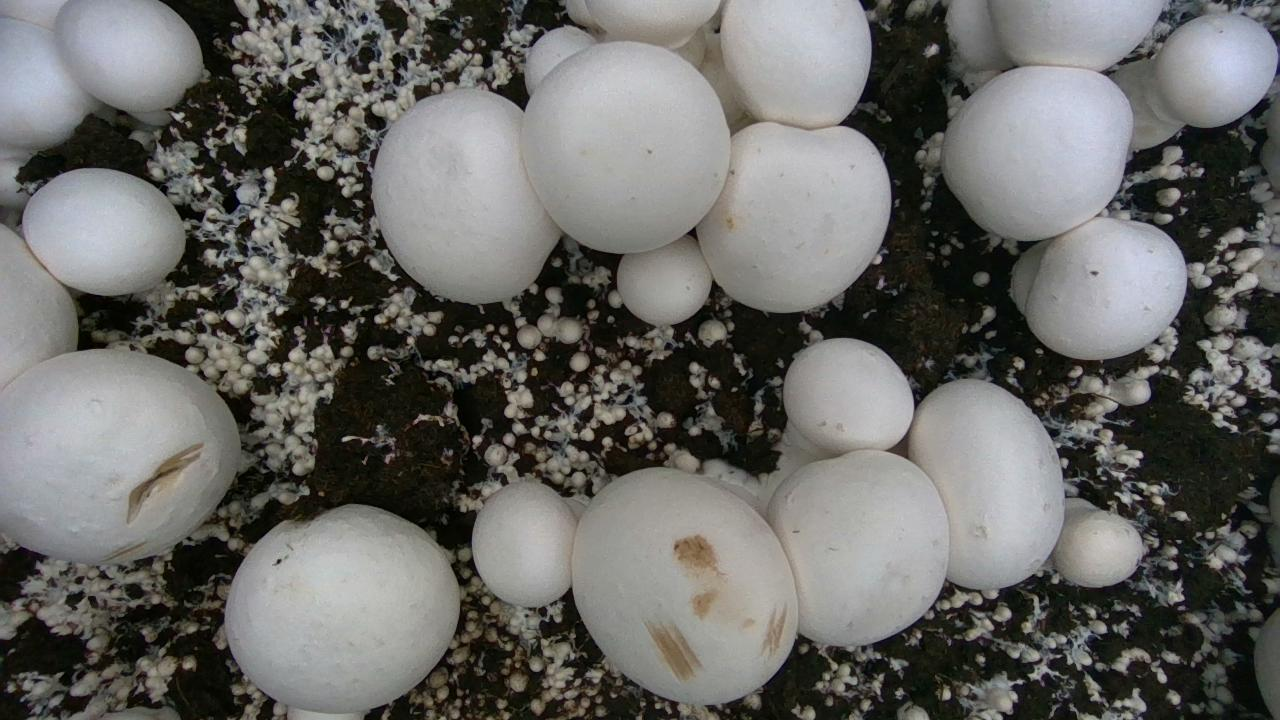WB: (571, 468, 798, 704), (0, 350, 239, 564), (225, 505, 459, 714), (520, 41, 729, 253), (372, 89, 561, 303), (697, 122, 890, 312), (767, 449, 948, 645), (941, 66, 1132, 240), (908, 379, 1064, 589), (1025, 218, 1187, 359), (22, 169, 185, 295), (721, 0, 871, 128), (55, 0, 202, 112), (783, 338, 913, 453), (1158, 11, 1280, 126), (472, 482, 577, 606), (988, 0, 1163, 70), (617, 235, 712, 325), (1052, 499, 1145, 587), (586, 0, 718, 48), (525, 24, 596, 94), (946, 0, 1012, 71)
